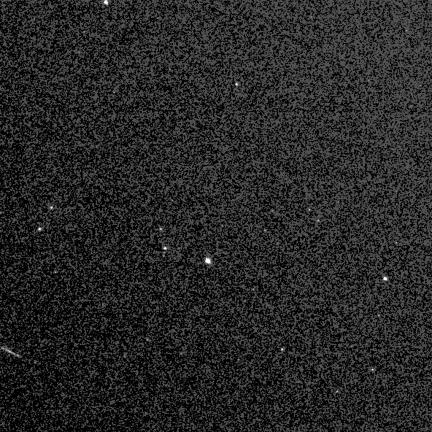blob: (206, 258, 211, 264), (281, 348, 285, 352), (164, 247, 168, 251), (235, 83, 239, 87), (104, 0, 107, 5), (383, 277, 387, 280), (51, 206, 54, 210), (38, 227, 41, 231), (160, 228, 163, 231), (265, 229, 267, 232)
streak: (1, 347, 20, 357)
